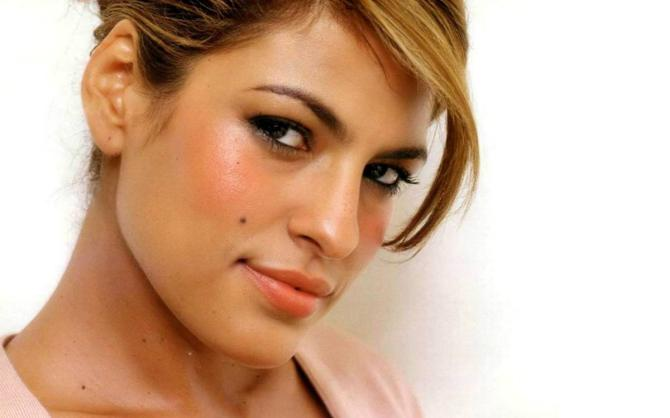bekas: (233, 135, 239, 143)
